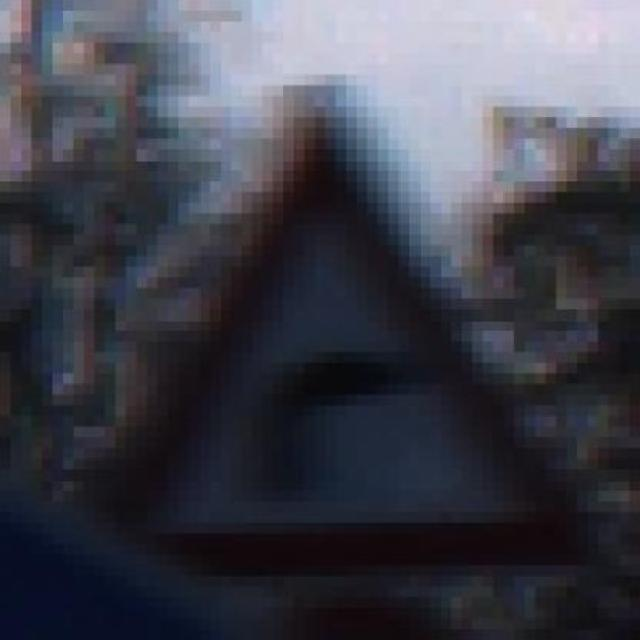Dangerous Rright Curve Ahead: (63, 64, 588, 587)
